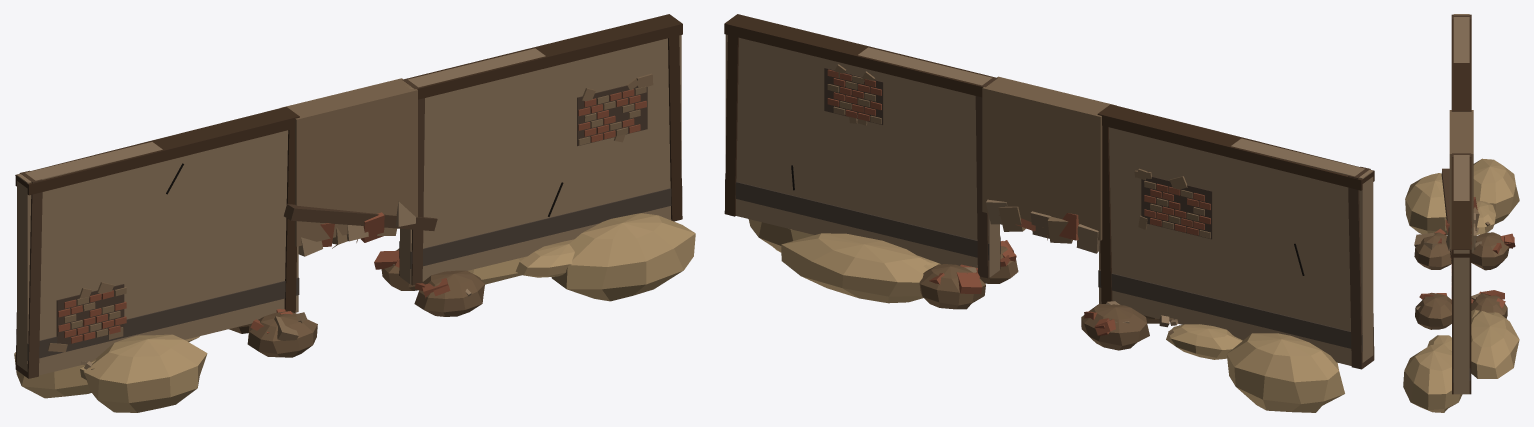
The model's file is TownWallCrawl.glb.
3 renders of one model, left to right at view 1: azimuth 30°, elevation 25°; view 2: azimuth 150°, elevation 25°; view 3: azimuth 270°, elevation 25°, orthographic. The views are drawn at different scales.
Parts seen in each view (by area): view 1: TownWallCrawl.001; view 2: TownWallCrawl.001; view 3: TownWallCrawl.001.
Boxes of the visible parts, x1,y1,x2,y2 form: TownWallCrawl.001: (14,14,695,412); TownWallCrawl.001: (724,14,1374,412); TownWallCrawl.001: (1403,14,1519,412).
Bounding box in the file's own units: 14 × 5.02 × 2.93.
